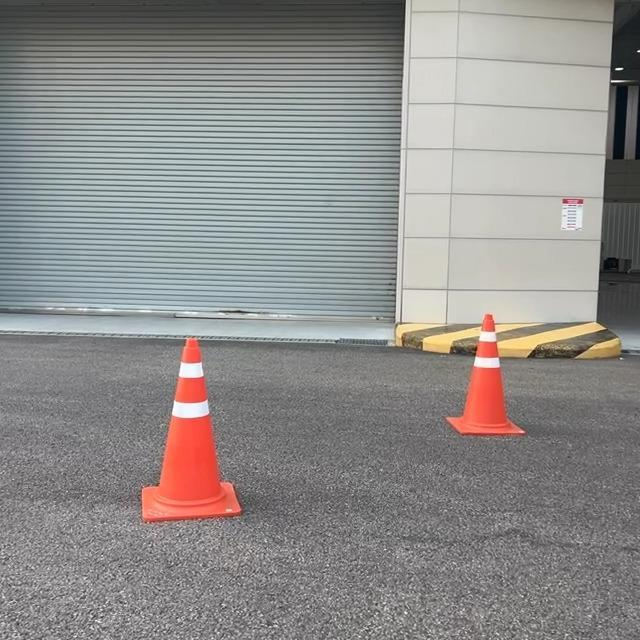fallen_object: (80, 346, 288, 538), (415, 289, 548, 457)
